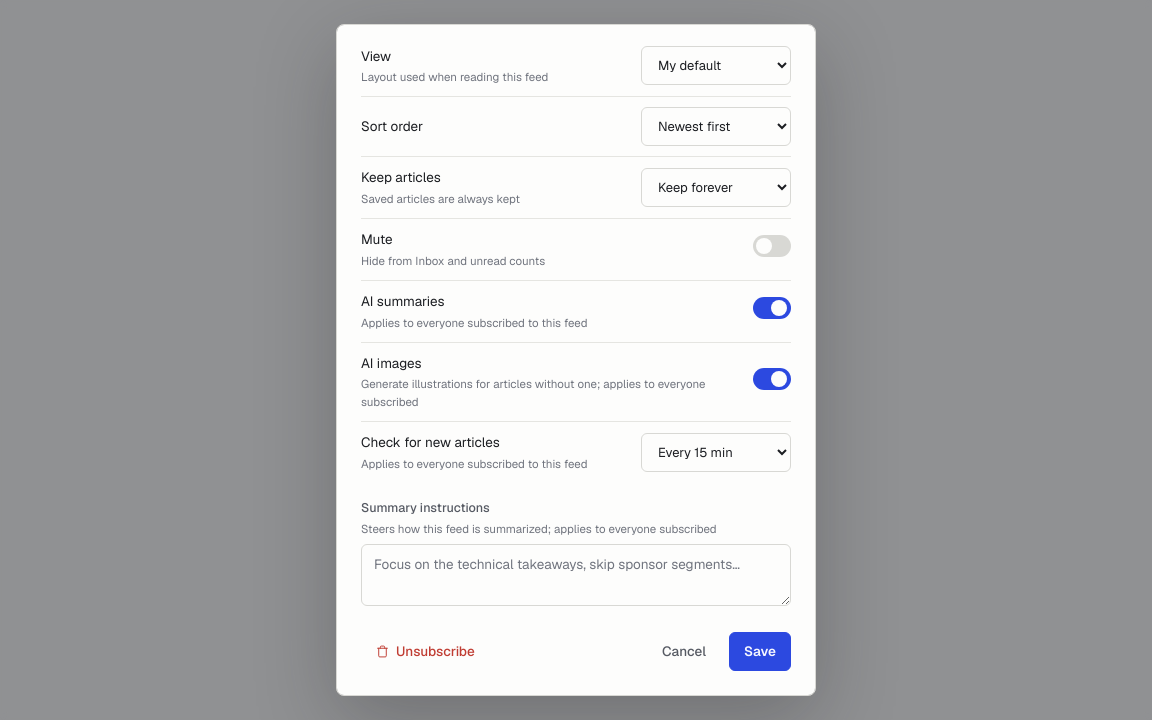
Test: <FeedSettingsModal> › shows an error when unsubscribing fails
(page scrolled)
Click the button "Unsubscribe". click: point(425, 651)
box: [361,632,490,671]
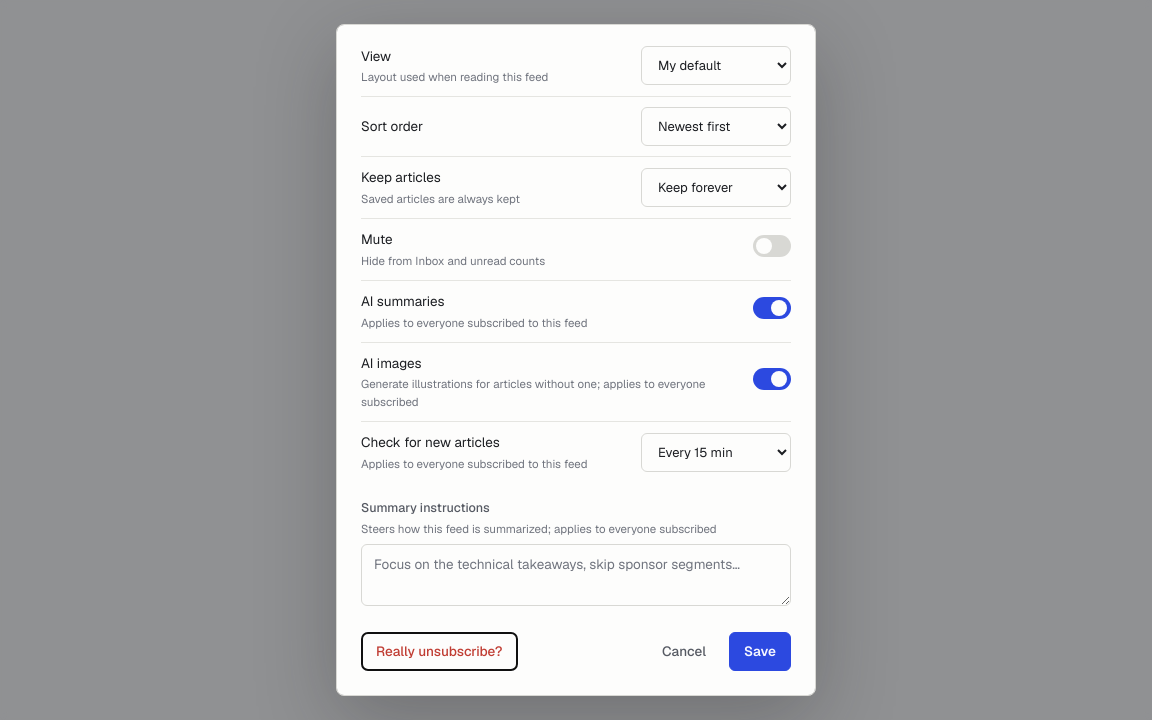
Click the button "Really unsubscribe?". click: point(439, 651)
box: [361,632,518,671]
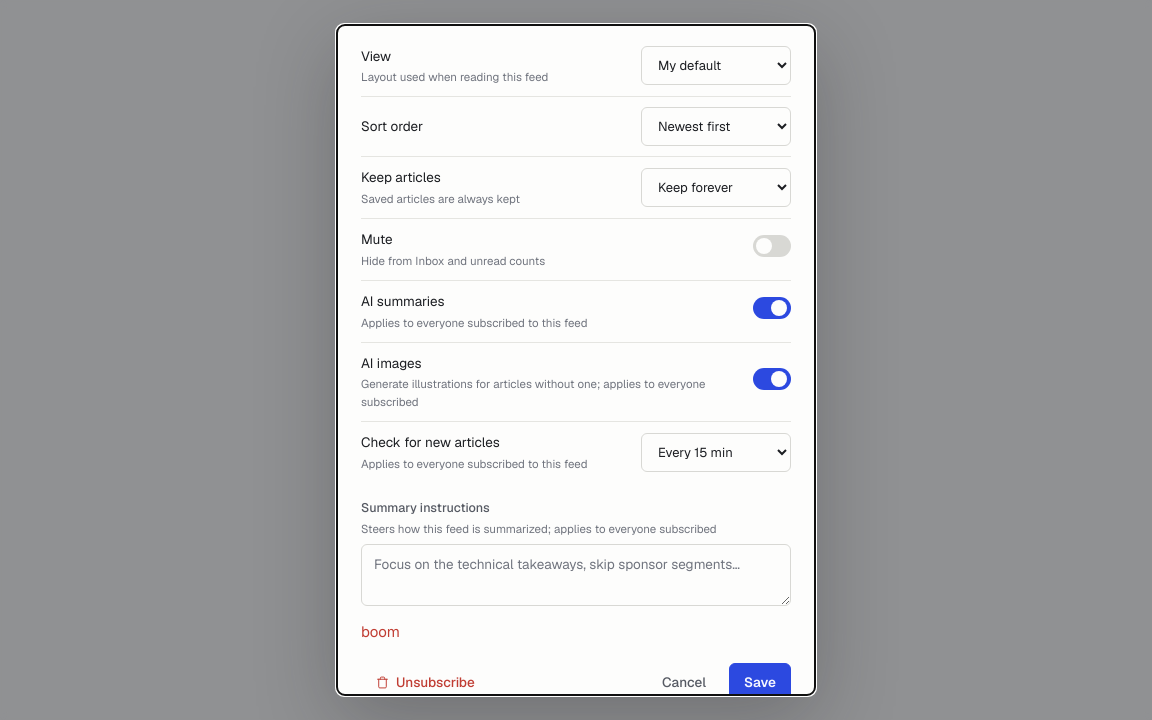
Expected: the text "boom" is shown, [361,622,400,641]
